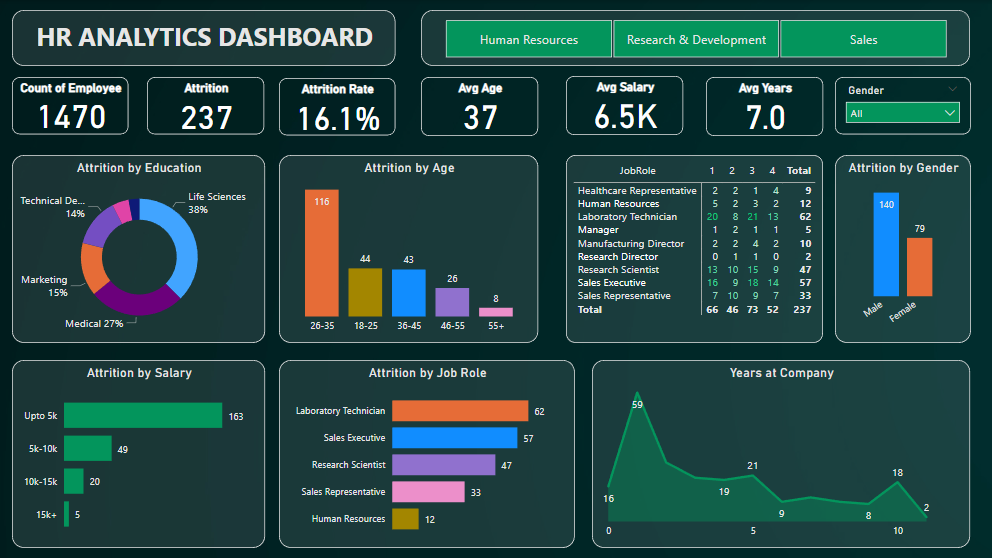

Layout of this report page (visuals, bound fields, positions):
{"tool":"powerbi","page":{"name":"Page 1","canvas":[1280,720],"ordinal":0},"visuals":[{"type":"card","title":"Count of Employee","fields":{"Values":["CountNonNull(HR_Analytics.EmpID)"]},"box":[15.6,99.7,150,74.3],"z":0},{"type":"card","title":"Avg Age","fields":{"Values":["Avg(HR_Analytics.Age)"]},"box":[542.6,99.1,151.2,75.6],"z":1},{"type":"card","title":"Attrition","fields":{"Values":["Sum(HR_Analytics.AttritionCount)"]},"box":[189.8,99.1,151.2,73.9],"z":2},{"type":"card","title":"Attrition Rate","fields":{"Values":["HR_Analytics.AttritionRate"]},"box":[359.5,100.8,149.5,73.9],"z":3},{"type":"card","title":"Avg Years","fields":{"Values":["Avg(HR_Analytics.YearsAtCompany)"]},"box":[908.8,99.1,151.2,75.6],"z":4},{"type":"card","title":"Avg Salary","fields":{"Values":["Avg(HR_Analytics.MonthlyIncome)"]},"box":[729,97.4,151.2,75.6],"z":5},{"type":"donutChart","title":"Attrition by Education","fields":{"Category":["HR_Analytics.EducationField"],"Y":["Sum(HR_Analytics.AttritionCount)"]},"box":[15.1,199.9,325.9,241.9],"z":6},{"type":"columnChart","title":"Attrition by Age","fields":{"Category":["HR_Analytics.AgeGroup"],"Y":["Sum(HR_Analytics.AttritionCount)"]},"box":[359.5,199.9,334.3,241.9],"z":7},{"type":"barChart","title":"Attrition by Salary","fields":{"Category":["HR_Analytics.SalarySlab"],"Y":["Sum(HR_Analytics.AttritionCount)"]},"box":[15.1,463.6,325.9,241.9],"z":9},{"type":"barChart","title":"Attrition by Job Role","fields":{"Category":["HR_Analytics.JobRole"],"Y":["Sum(HR_Analytics.AttritionCount)"]},"box":[359.5,463.6,381.3,241.9],"z":10},{"type":"areaChart","title":"Years at Company","fields":{"Category":["HR_Analytics.YearsAtCompany"],"Y":["Sum(HR_Analytics.AttritionCount)"]},"box":[762.6,463.6,487.1,241.9],"z":11},{"type":"columnChart","title":"Attrition by Gender","fields":{"Category":["HR_Analytics.Gender"],"Y":["Sum(HR_Analytics.AttritionCount)"]},"box":[1075.1,199.9,174.7,241.9],"z":12},{"type":"slicer","fields":{"Values":["HR_Analytics.Gender"]},"box":[1075.1,99.1,174.7,73.9],"z":13},{"type":"slicer","fields":{"Values":["HR_Analytics.Department"]},"box":[542.6,13.4,707.2,72.2],"z":14},{"type":"textbox","box":[15.1,13.4,493.9,72.2],"z":15},{"type":"pivotTable","fields":{"Rows":["HR_Analytics.JobRole"],"Columns":["HR_Analytics.JobSatisfaction"],"Values":["Sum(HR_Analytics.AttritionCount)"]},"box":[729,199.9,330.9,241.9],"z":16}]}

Visuals, with their boxes in screenshot pixels (x1, y1, x2, y2), scaled from the page's 1280x720 canvas onto the 992x558 screenshot:
"Count of Employee" card: locate(12, 77, 128, 135)
"Avg Age" card: locate(421, 77, 538, 135)
"Attrition" card: locate(147, 77, 264, 134)
"Attrition Rate" card: locate(279, 78, 394, 135)
"Avg Years" card: locate(704, 77, 822, 135)
"Avg Salary" card: locate(565, 75, 682, 134)
"Attrition by Education" donutChart: locate(12, 155, 264, 342)
"Attrition by Age" columnChart: locate(279, 155, 538, 342)
"Attrition by Salary" barChart: locate(12, 359, 264, 547)
"Attrition by Job Role" barChart: locate(279, 359, 574, 547)
"Years at Company" areaChart: locate(591, 359, 969, 547)
"Attrition by Gender" columnChart: locate(833, 155, 969, 342)
slicer - HR_Analytics.Gender: locate(833, 77, 969, 134)
slicer - HR_Analytics.Department: locate(421, 10, 969, 66)
textbox: locate(12, 10, 394, 66)
pivotTable - HR_Analytics.JobRole x HR_Analytics.JobSatisfaction: locate(565, 155, 821, 342)
